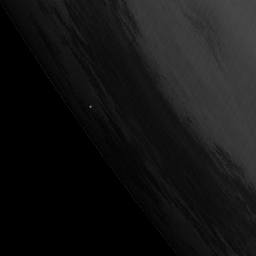Target: (87, 104, 93, 109)
